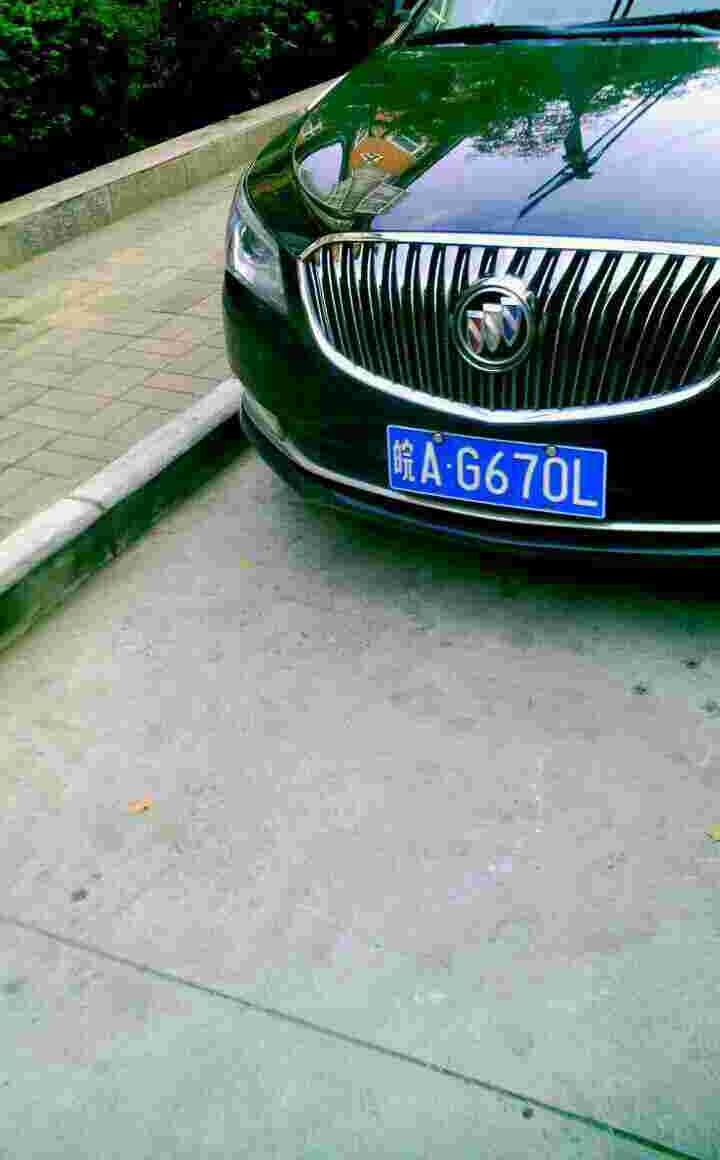license_plate: (381, 424, 609, 526)
